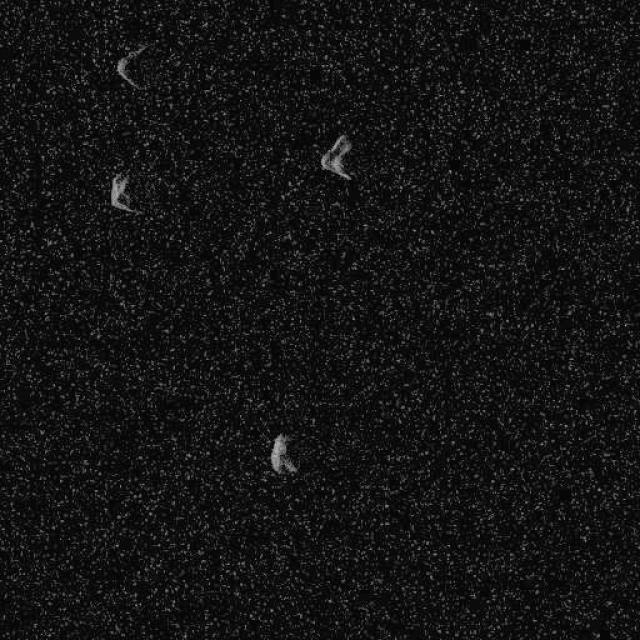D2: (114, 41, 151, 91), (318, 132, 354, 182), (269, 432, 299, 477), (109, 171, 140, 214)
